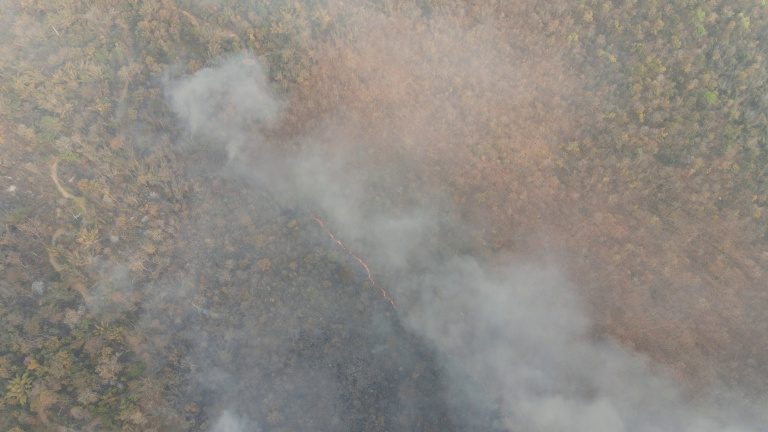fire: (303, 216, 398, 317)
smoke: (166, 56, 422, 264), (411, 251, 653, 432)
